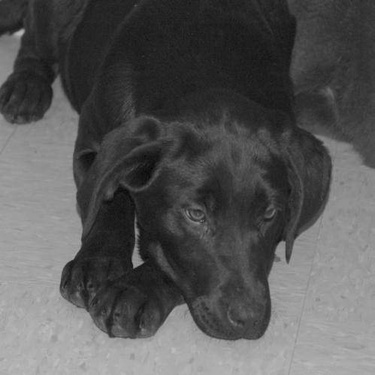dog: (3, 1, 338, 344)
